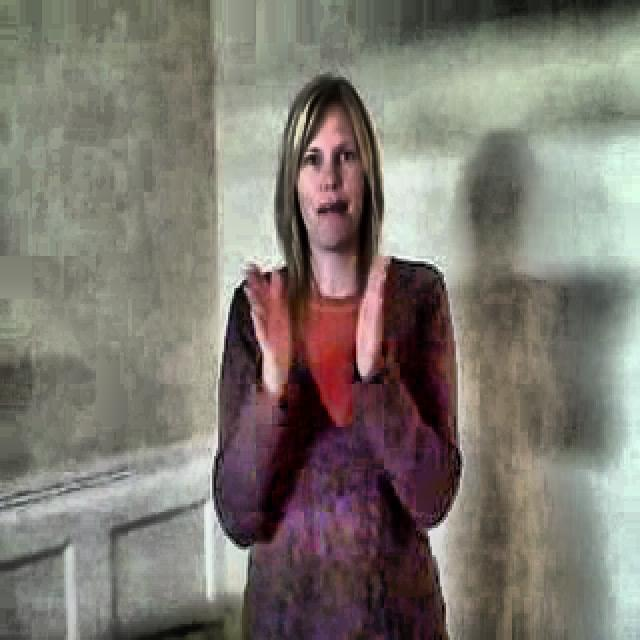F: (197, 69, 465, 626)
